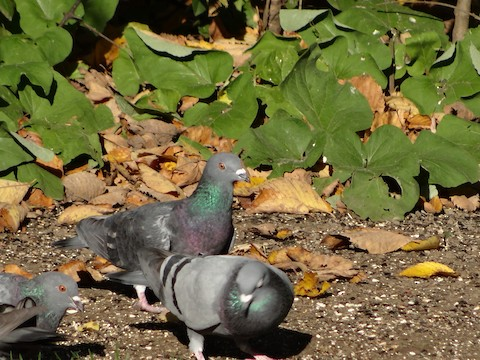pigeon: (63, 150, 252, 314), (154, 251, 297, 353), (4, 265, 92, 352)
